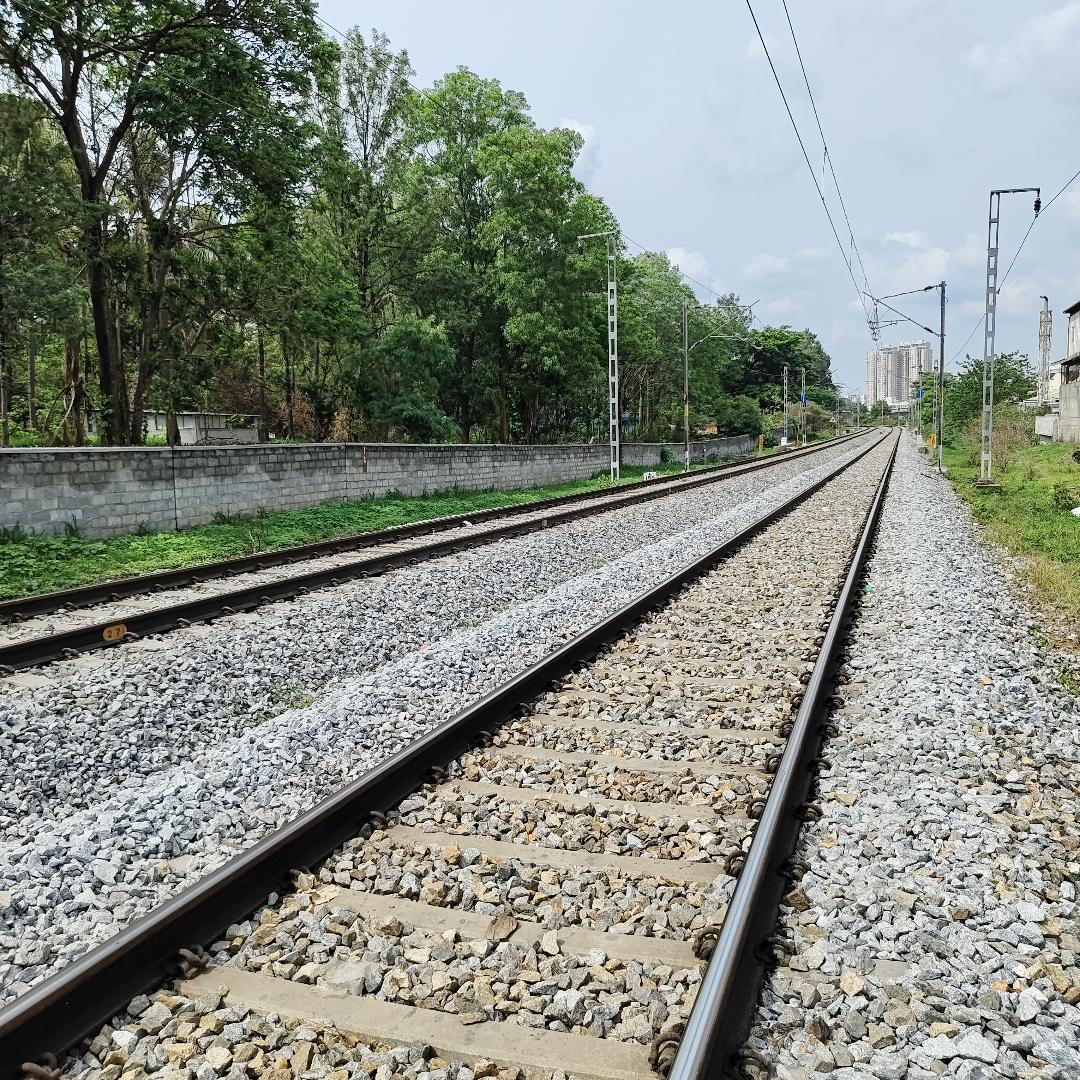track: (0, 420, 907, 1080)
